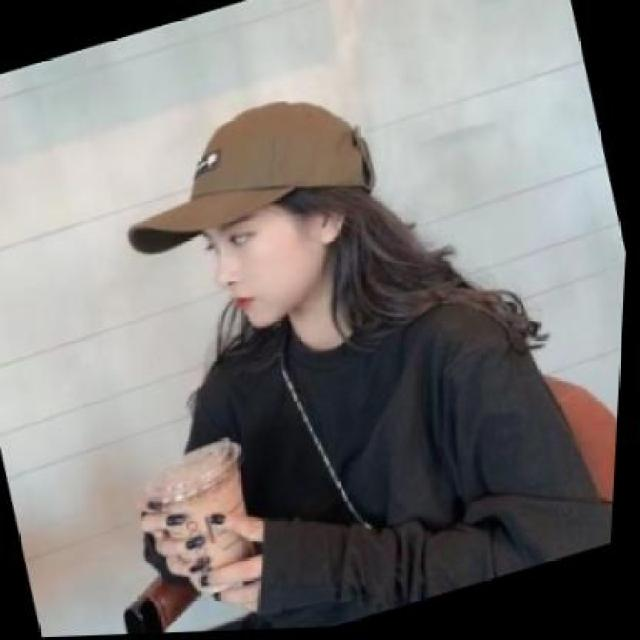hat: (105, 80, 384, 266)
